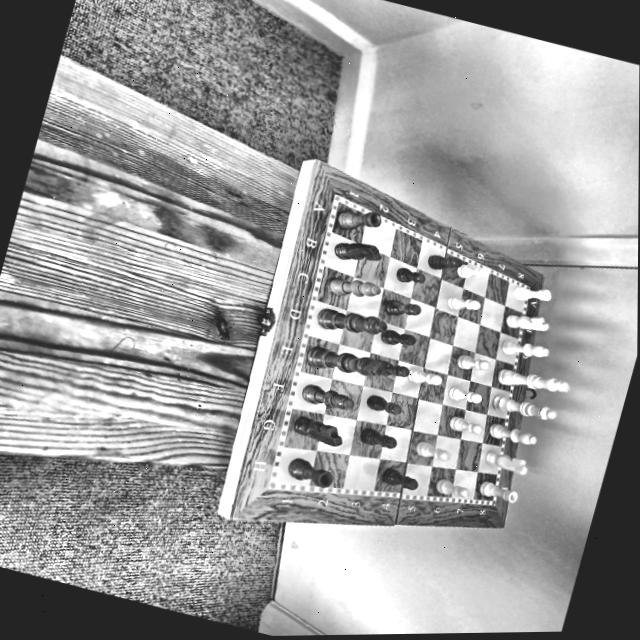black-bishop: (291, 379, 358, 417), (325, 271, 383, 308)
black-king: (301, 338, 387, 386)
black-knight: (285, 410, 346, 450), (328, 234, 385, 273)
black-pawn: (371, 322, 419, 356), (379, 292, 424, 325), (421, 247, 464, 279), (377, 465, 421, 494), (354, 425, 399, 453), (361, 391, 405, 419), (370, 357, 410, 386), (390, 263, 426, 292)
black-queen: (310, 300, 389, 347)
black-rook: (280, 452, 336, 491), (332, 200, 383, 242)
white-bishop: (494, 333, 550, 367), (483, 419, 540, 450)
white-king: (492, 361, 572, 403)
white-knight: (500, 304, 551, 341), (478, 445, 530, 479)
white-pawn: (440, 290, 483, 319), (450, 349, 491, 379), (410, 437, 452, 466), (442, 382, 487, 409), (451, 258, 491, 288), (403, 363, 444, 391), (443, 412, 484, 439), (430, 475, 471, 502)
white-queen: (486, 390, 558, 428)
white-rook: (509, 278, 553, 309), (474, 479, 520, 505)
